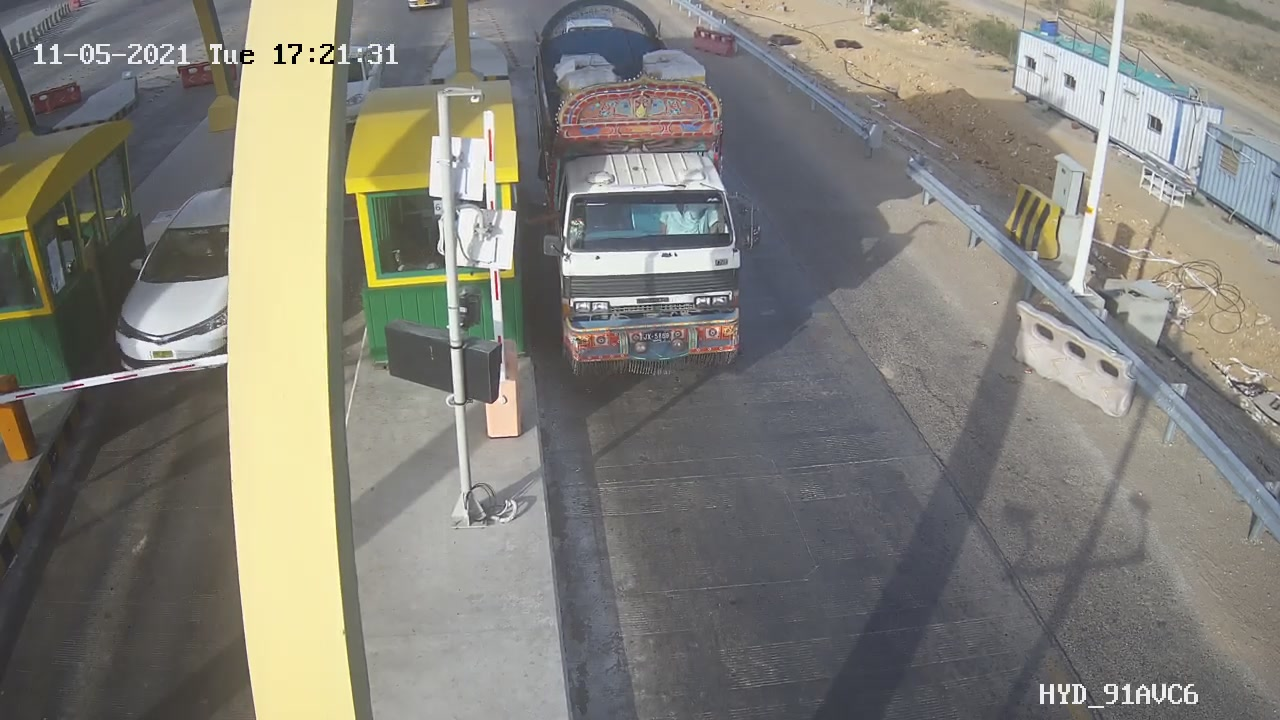F5: (516, 1, 786, 400)
